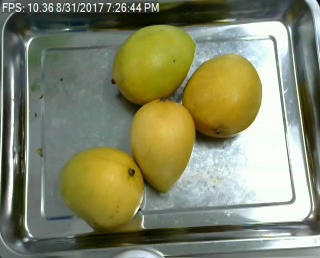Mango: (57, 148, 143, 231), (112, 24, 194, 109), (184, 55, 262, 137), (128, 99, 196, 193)
